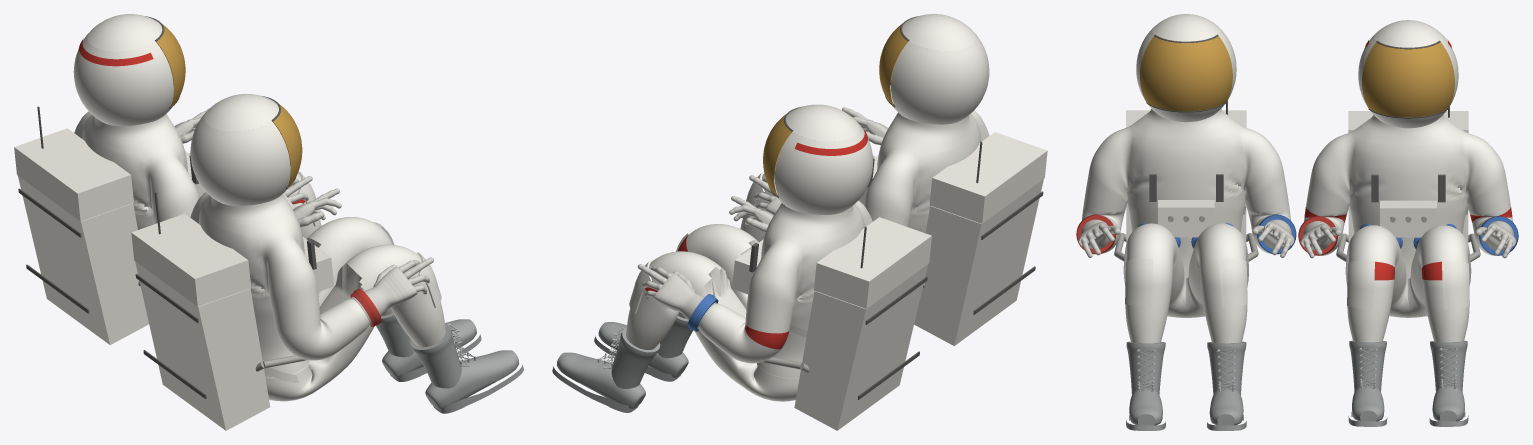
The model's file is riders.glb.
3 views of the same model, side by side, from view 1: azimuth 30°, elevation 25°; view 2: azimuth 150°, elevation 25°; view 3: azimuth 270°, elevation 25° (orthographic). The views are drawn at different scales.
Parts seen in each view (by area): view 1: Duke_Helmet_OuterThermalCover, Young_Helmet_OuterThermalCover, Duke_Arms_Sleeves, Young_Legs_Stowage, Duke_Boots_Laces, Duke_Gloves_PressureGloves, Duke_Helmet_VisorRim, Duke_Helmet_GoldSunVisor, Young_Helmet_GoldSunVisor, Young_Helmet_VisorRim, Young_Gloves_PressureGloves, Young_Helmet_CommanderBand; view 2: Young_Helmet_OuterThermalCover, Duke_Helmet_OuterThermalCover, Young_Legs_Stowage, Young_Legs_Trousers, Duke_Arms_Sleeves, Young_Boots_Laces, Young_Arms_Sleeves, Young_Gloves_PressureGloves, Duke_Gloves_PressureGloves, Young_Helmet_VisorRim, Duke_Helmet_GoldSunVisor, Young_Helmet_GoldSunVisor (+3 smaller); view 3: Duke_Arms_Sleeves, Young_Legs_Stowage, Young_Legs_Trousers, Young_Helmet_GoldSunVisor, Duke_Helmet_GoldSunVisor, Duke_Boots_Laces, Young_Helmet_OuterThermalCover, Young_Boots_Laces, Duke_Helmet_OuterThermalCover, Duke_Gloves_PressureGloves, Young_Gloves_PressureGloves, Young_Arms_Sleeves (+8 smaller).
Boxes of the visible parts, x1=… form: Duke_Helmet_OuterThermalCover: x1=131, y1=94, x2=334, y2=430; Young_Helmet_OuterThermalCover: x1=14, y1=14, x2=205, y2=344; Duke_Arms_Sleeves: x1=190, y1=192, x2=445, y2=401; Young_Legs_Stowage: x1=74, y1=111, x2=320, y2=229; Duke_Boots_Laces: x1=376, y1=313, x2=523, y2=413; Duke_Gloves_PressureGloves: x1=293, y1=188, x2=433, y2=325; Duke_Helmet_VisorRim: x1=135, y1=96, x2=316, y2=398; Duke_Helmet_GoldSunVisor: x1=273, y1=104, x2=302, y2=186; Young_Helmet_GoldSunVisor: x1=156, y1=24, x2=185, y2=107; Young_Helmet_VisorRim: x1=18, y1=16, x2=198, y2=313; Young_Gloves_PressureGloves: x1=174, y1=109, x2=312, y2=209; Young_Helmet_CommanderBand: x1=79, y1=38, x2=153, y2=66; Young_Helmet_OuterThermalCover: x1=732, y1=104, x2=931, y2=430; Duke_Helmet_OuterThermalCover: x1=858, y1=14, x2=1047, y2=345; Young_Legs_Stowage: x1=629, y1=200, x2=872, y2=378; Young_Legs_Trousers: x1=626, y1=224, x2=799, y2=401; Duke_Arms_Sleeves: x1=740, y1=110, x2=989, y2=242; Young_Boots_Laces: x1=552, y1=316, x2=693, y2=412; Young_Arms_Sleeves: x1=698, y1=303, x2=790, y2=363; Young_Gloves_PressureGloves: x1=637, y1=196, x2=773, y2=329; Duke_Gloves_PressureGloves: x1=749, y1=107, x2=888, y2=214; Young_Helmet_VisorRim: x1=749, y1=106, x2=927, y2=399; Duke_Helmet_GoldSunVisor: x1=879, y1=23, x2=907, y2=105; Young_Helmet_GoldSunVisor: x1=763, y1=114, x2=791, y2=196; Duke_Arms_Sleeves: x1=1082, y1=108, x2=1290, y2=343; Young_Legs_Stowage: x1=1307, y1=114, x2=1509, y2=309; Young_Legs_Trousers: x1=1345, y1=225, x2=1471, y2=342; Young_Helmet_GoldSunVisor: x1=1362, y1=42, x2=1454, y2=117; Duke_Helmet_GoldSunVisor: x1=1140, y1=36, x2=1232, y2=111; Duke_Boots_Laces: x1=1126, y1=341, x2=1246, y2=430; Young_Helmet_OuterThermalCover: x1=1348, y1=20, x2=1468, y2=243; Young_Boots_Laces: x1=1348, y1=340, x2=1468, y2=426; Duke_Helmet_OuterThermalCover: x1=1126, y1=14, x2=1246, y2=243; Duke_Gloves_PressureGloves: x1=1078, y1=219, x2=1294, y2=257; Young_Gloves_PressureGloves: x1=1300, y1=221, x2=1516, y2=258; Young_Arms_Sleeves: x1=1304, y1=198, x2=1512, y2=255.
Size of the model in its own units: 1.17 by 1.13 by 1.42.
